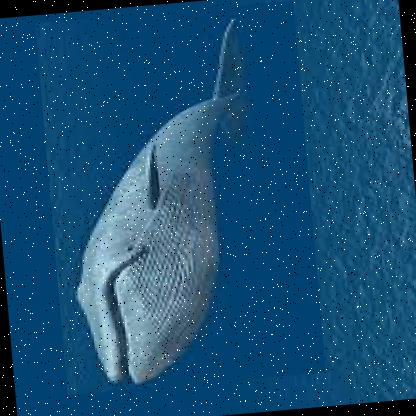blue_whale: (34, 0, 326, 395)
